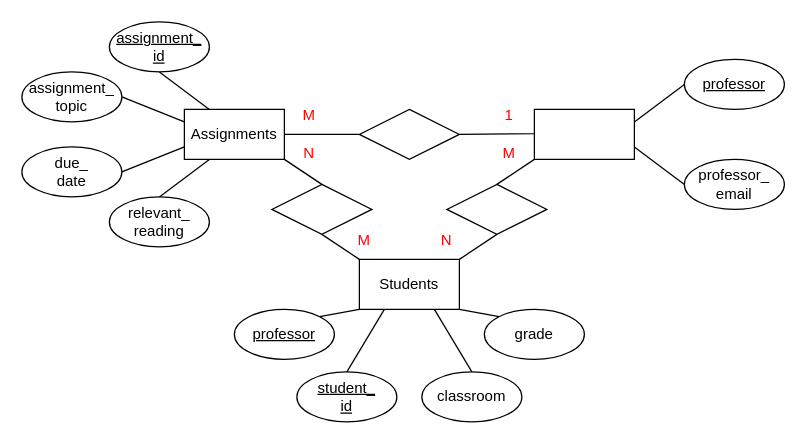
Some shapes in this 806 by 444 pixel diagram are drawn without their labels. The shapes that lost their labels are listed below. From the top down, each one's centre as x and y in pixels, then its label:
(x=408, y=133): assign
(x=583, y=133): Professors
(x=321, y=208): do
(x=496, y=208): lecture
